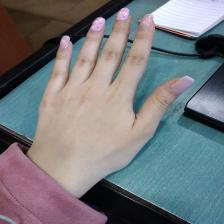five: (48, 7, 192, 160)
